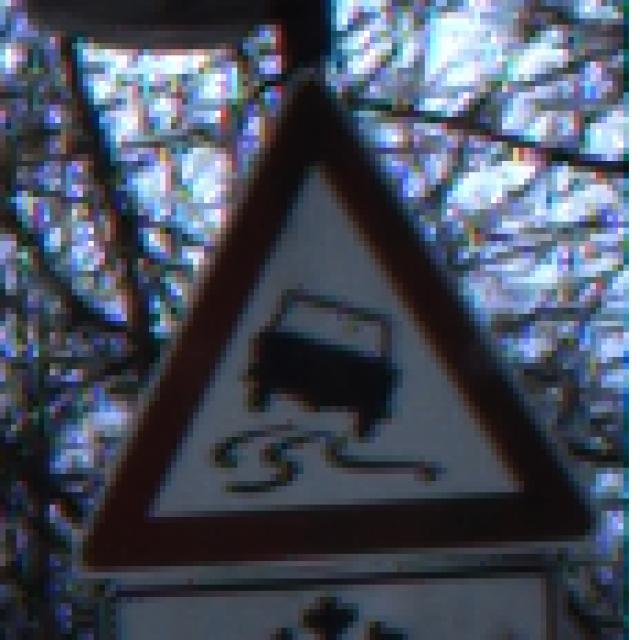slippery road: (86, 73, 584, 551)
